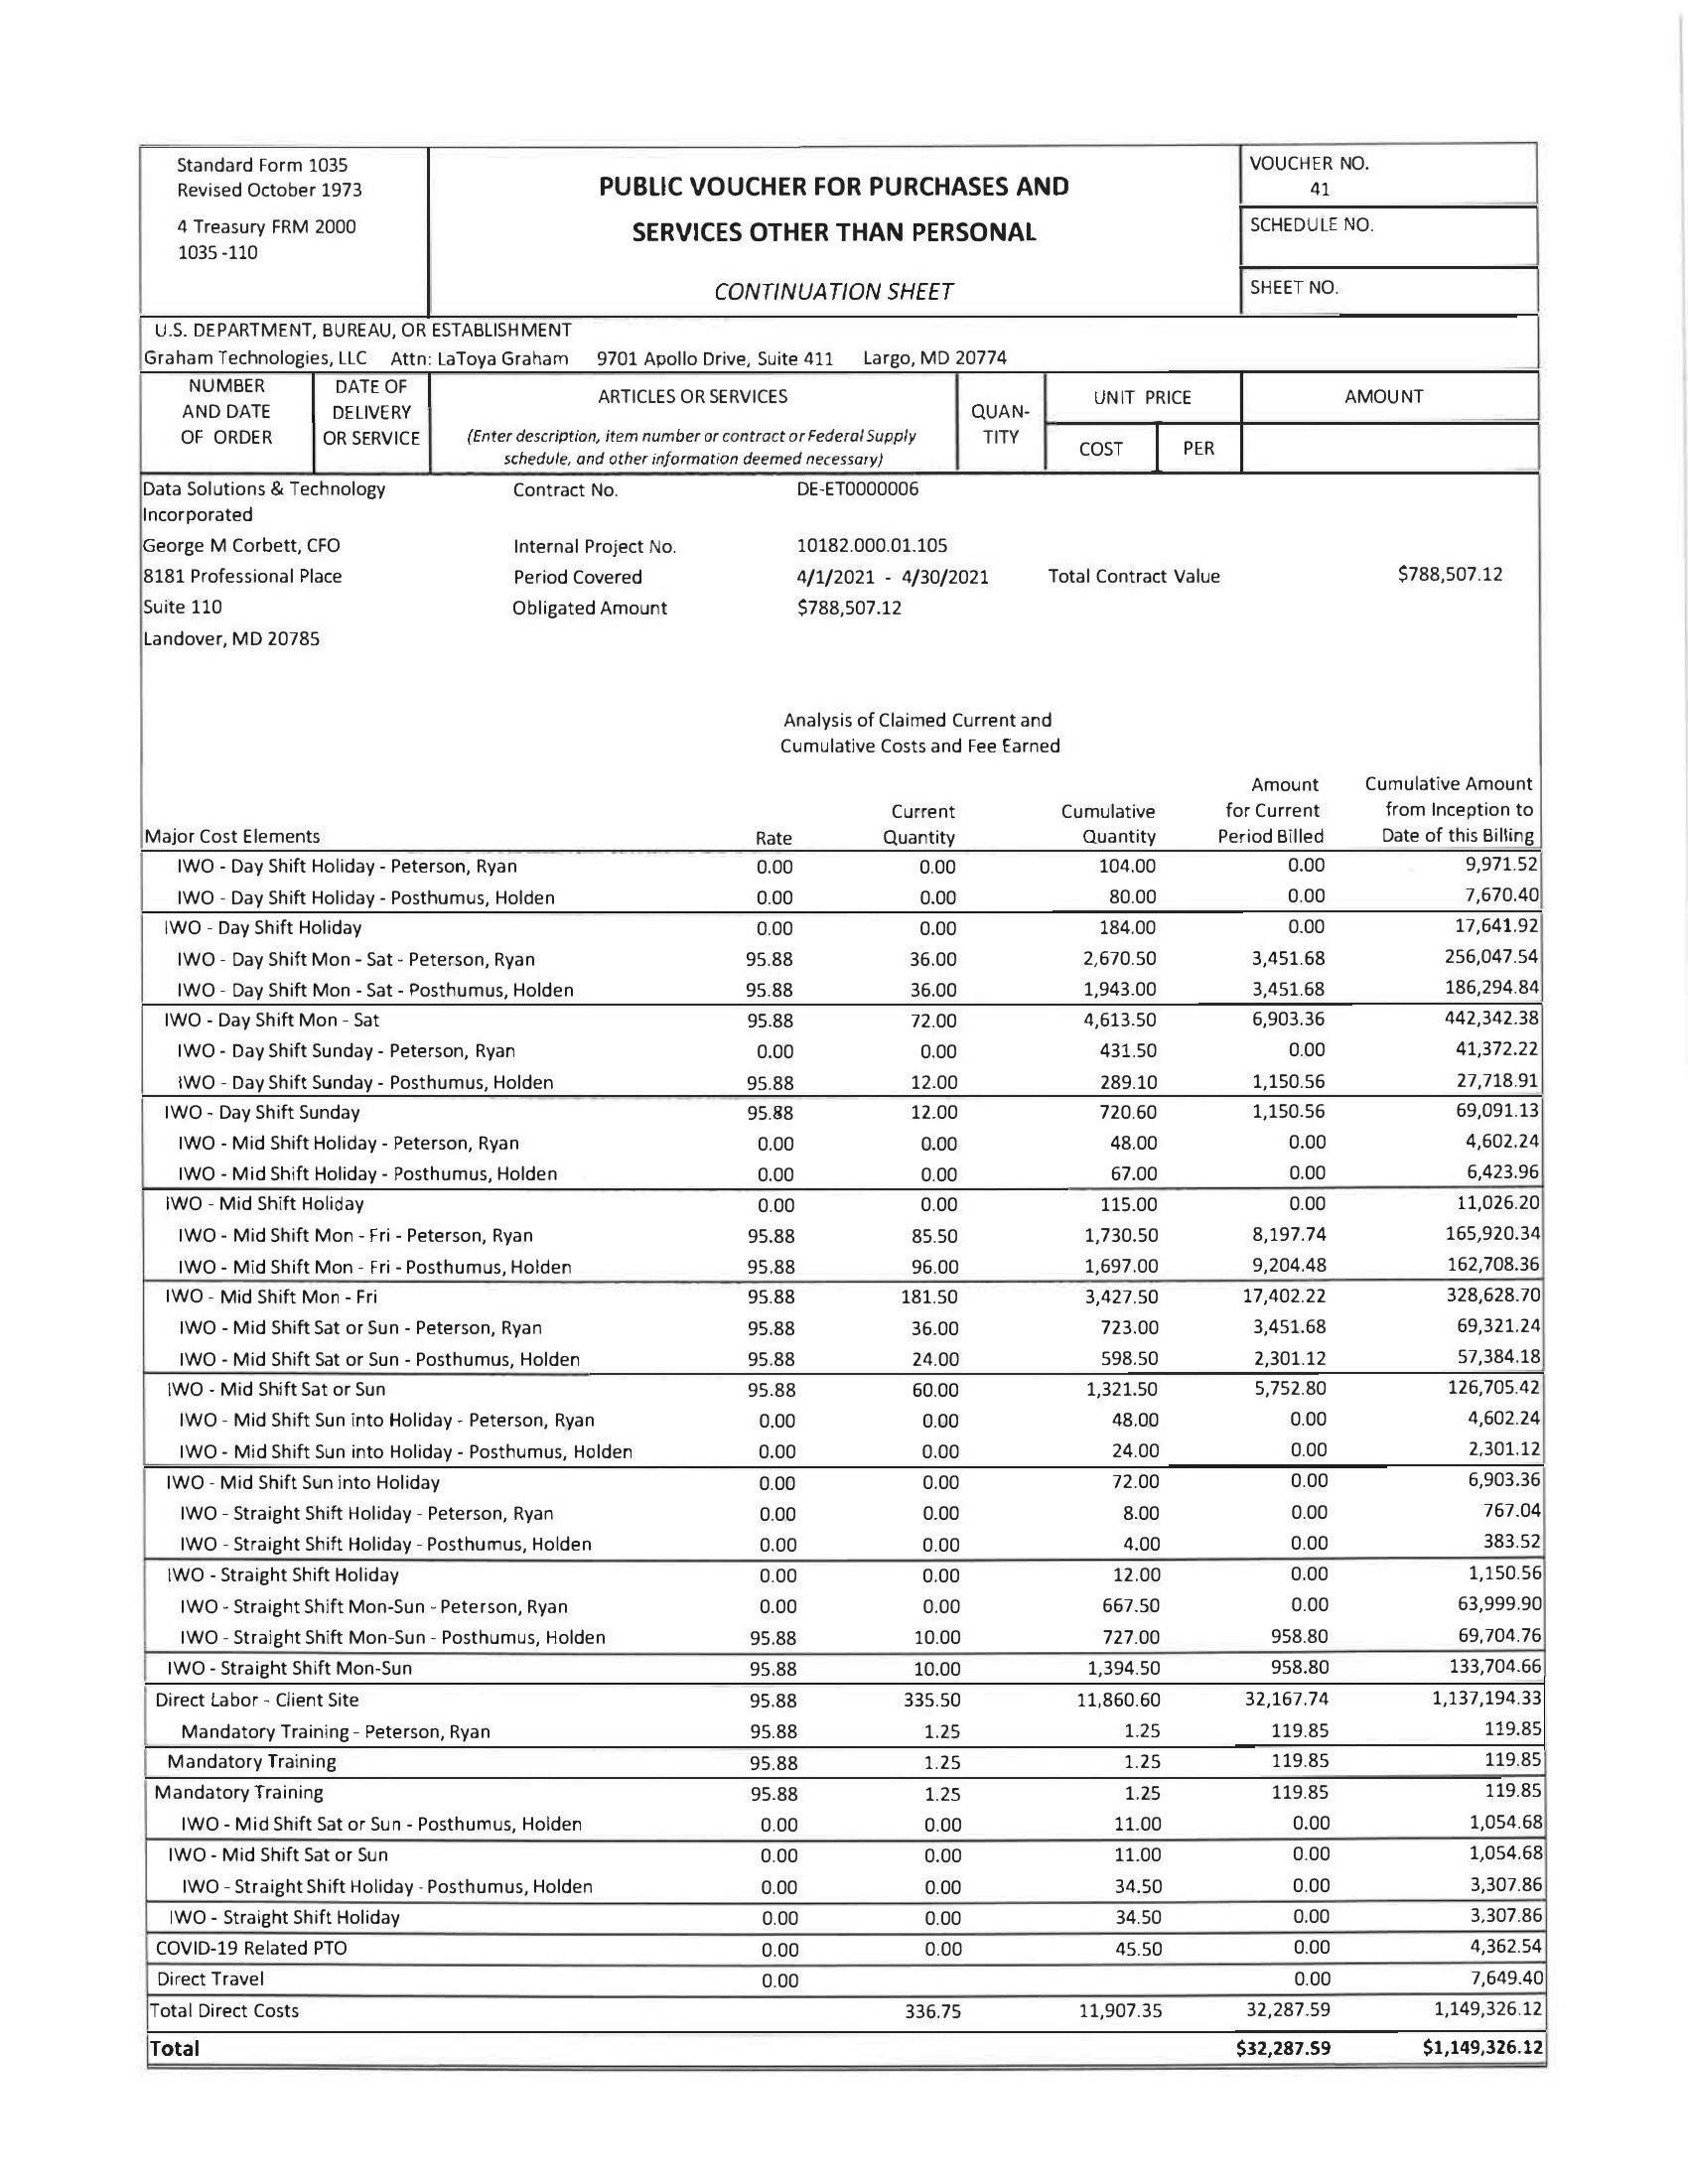table: (138, 762, 1557, 2086)
